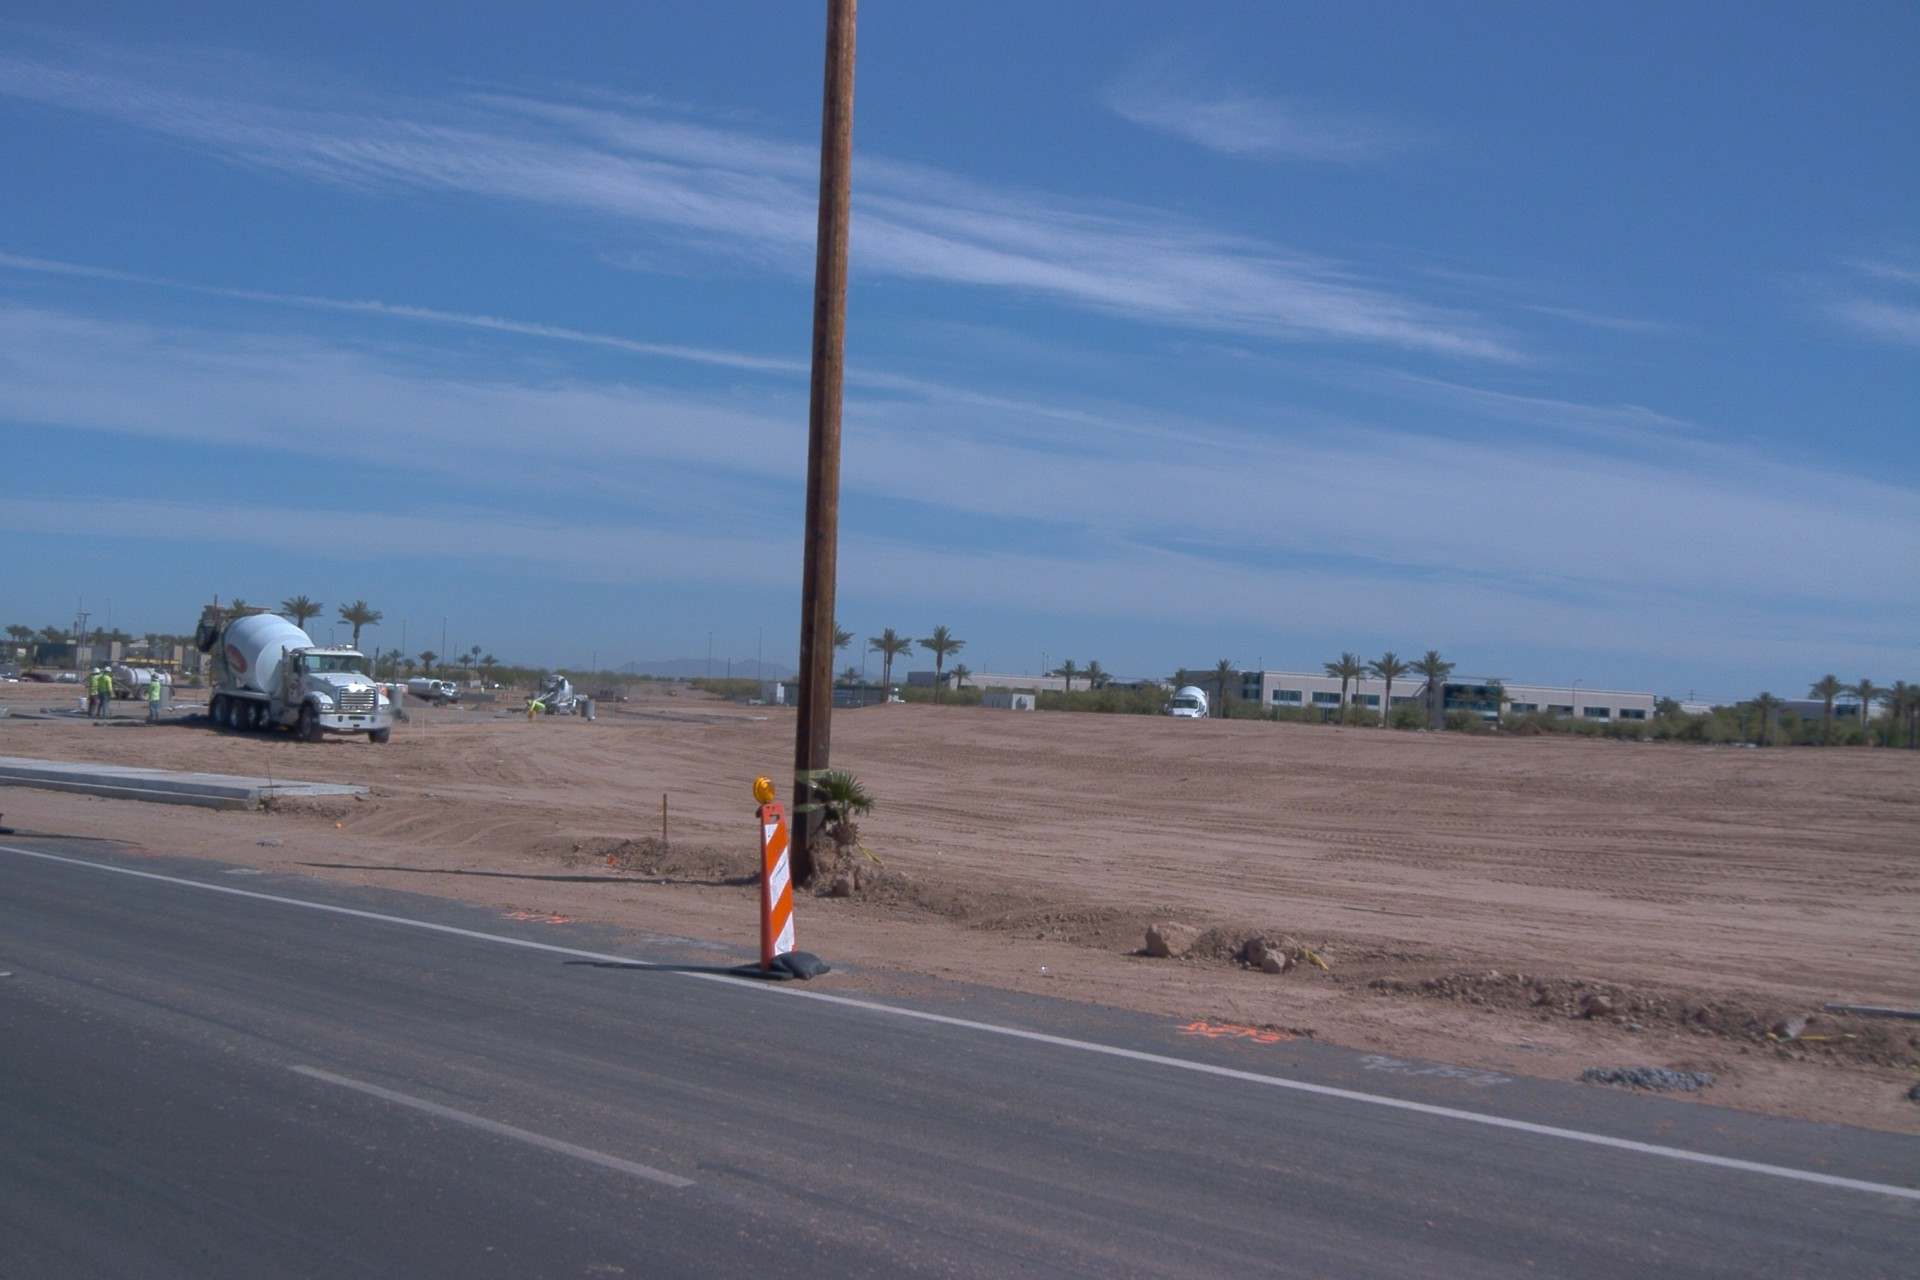TYPE_PEDESTRIAN: (84, 666, 105, 719), (140, 673, 161, 724), (95, 666, 114, 719), (526, 698, 550, 713), (530, 686, 538, 700)
TYPE_VEHICLE: (191, 614, 393, 747), (525, 676, 582, 721), (110, 664, 178, 700), (1163, 679, 1212, 720), (407, 675, 463, 707), (584, 687, 630, 705), (20, 674, 61, 687), (0, 675, 22, 686), (173, 684, 207, 691), (443, 682, 459, 696), (572, 694, 589, 707), (749, 698, 767, 705)
